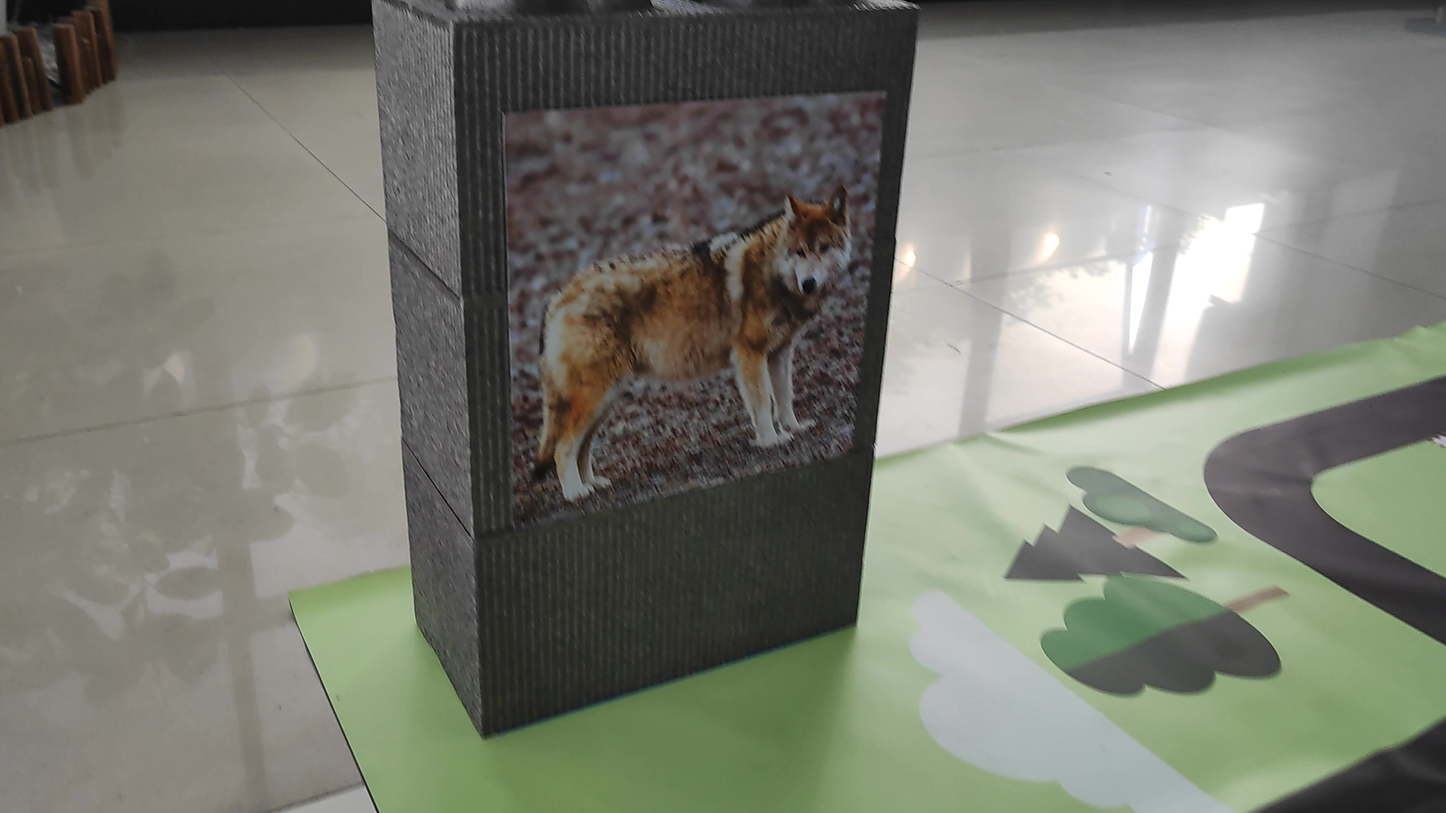wolf: (528, 124, 858, 470)
